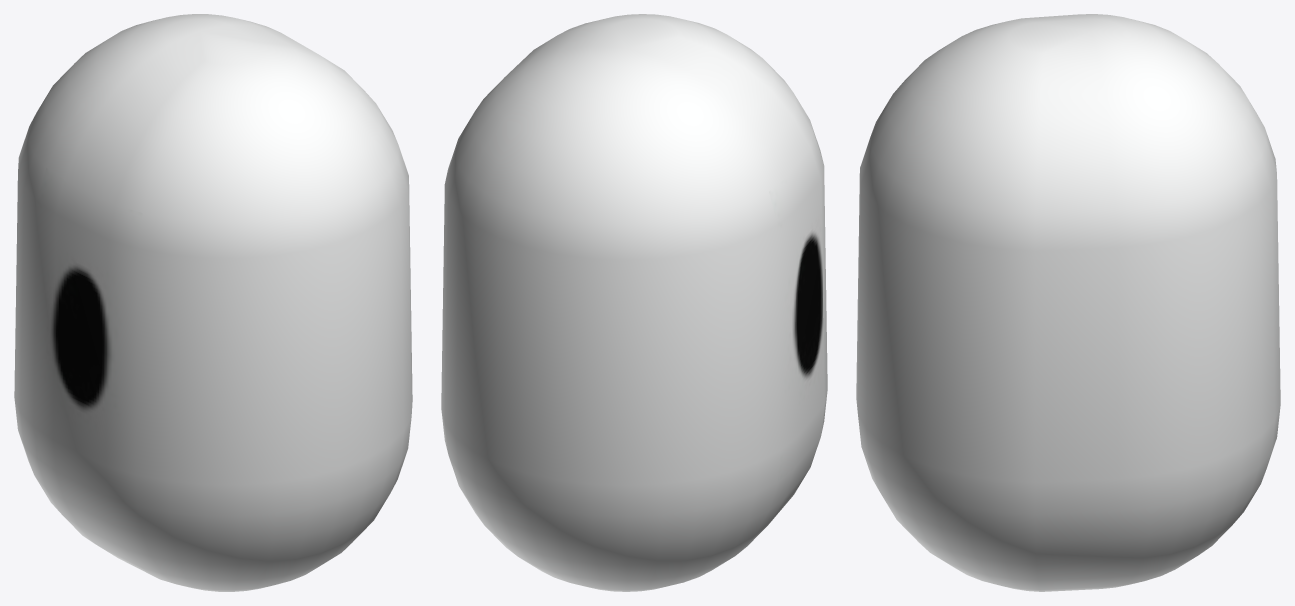
File: ojodos_Muffin.obj
3 renders of one model, left to right at view 1: azimuth 30°, elevation 25°; view 2: azimuth 150°, elevation 25°; view 3: azimuth 270°, elevation 25°, orthographic. The views are drawn at different scales.
Visible parts, largest first — view 1: Sphere002; view 2: Sphere002; view 3: Sphere002.
Part boxes in pixels (box(x1,y1,x2,y2)): Sphere002: box(14, 14, 412, 591); Sphere002: box(441, 14, 827, 591); Sphere002: box(856, 14, 1280, 591).
Bounding box in the file's own units: 10.15 × 15.7 × 11.18.
